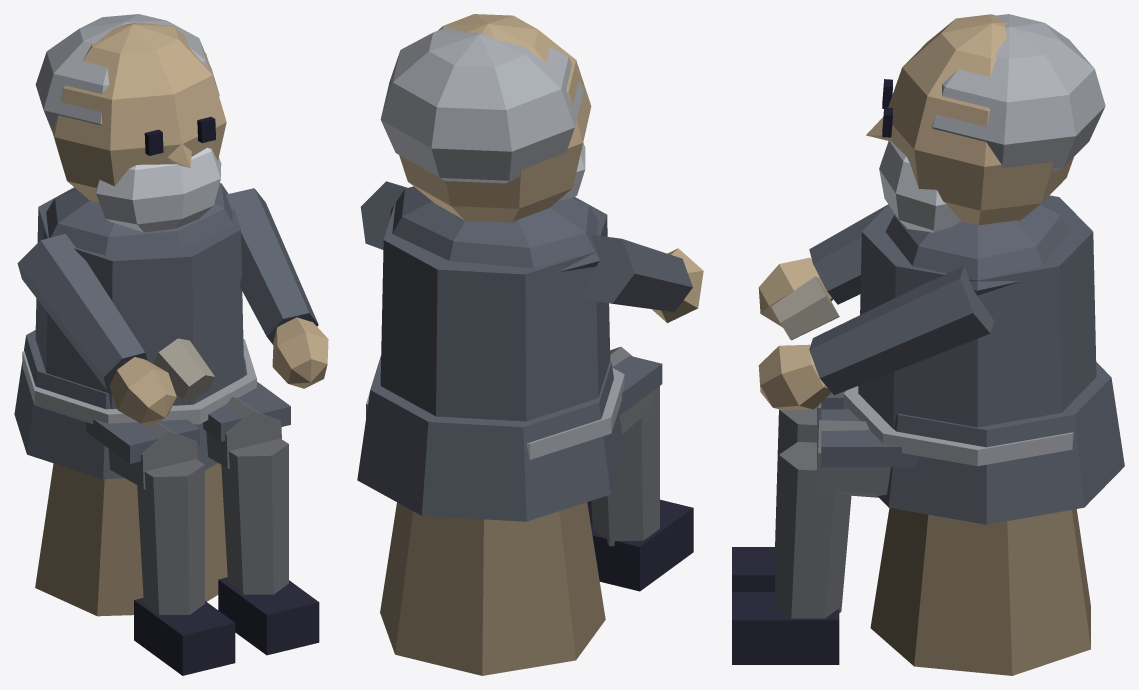
Rendered from unmoored_coat.glb.
The picture shows the model from 3 angles, left to right: view 1: azimuth 30°, elevation 25°; view 2: azimuth 150°, elevation 25°; view 3: azimuth 270°, elevation 25°; orthographic projection. The views are drawn at different scales.
Parts seen in each view (by area): view 1: Torso, Head, LegR, LegL, Stool, ArmR, ArmL; view 2: Torso, Head, Stool, LegR, ArmR, ArmL; view 3: Torso, Head, Stool, LegL, ArmL, ArmR, LegR.
Part boxes in pixels (<box>): Torso: <box>14,183,256,479</box>; Head: <box>35,14,226,232</box>; LegR: <box>85,419,235,675</box>; LegL: <box>203,381,319,655</box>; Stool: <box>35,463,227,616</box>; ArmR: <box>17,234,214,425</box>; ArmL: <box>226,188,328,388</box>; Torso: <box>357,186,624,521</box>; Head: <box>380,14,591,222</box>; Stool: <box>380,502,605,675</box>; LegR: <box>591,346,693,591</box>; ArmR: <box>582,234,703,322</box>; ArmL: <box>360,181,407,249</box>; Torso: <box>843,195,1124,524</box>; Head: <box>866,14,1105,232</box>; Stool: <box>870,508,1090,675</box>; LegL: <box>732,409,919,664</box>; ArmL: <box>758,265,994,410</box>; ArmR: <box>758,204,888,340</box>; LegR: <box>732,390,846,591</box>.
Bounding box in the file's own units: 0.7086 × 1.5 × 0.88.
